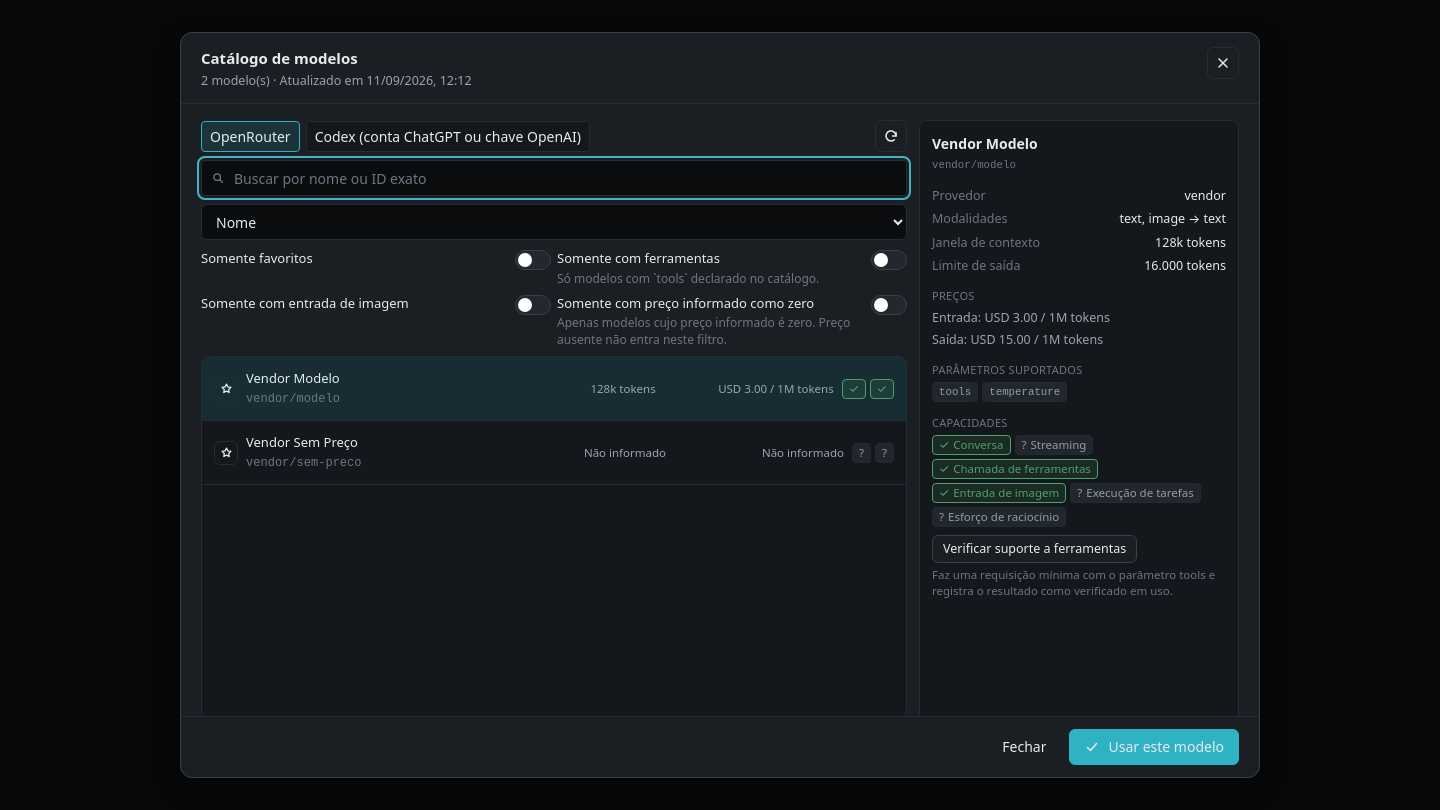
Scenario: CatalogDialog › filtro de preço zero NÃO inclui modelos sem preço informado
Click the switch named "preço informado como zero" next to "Somente com preço informado como zero" at (889, 305), box [871,295,907,315]
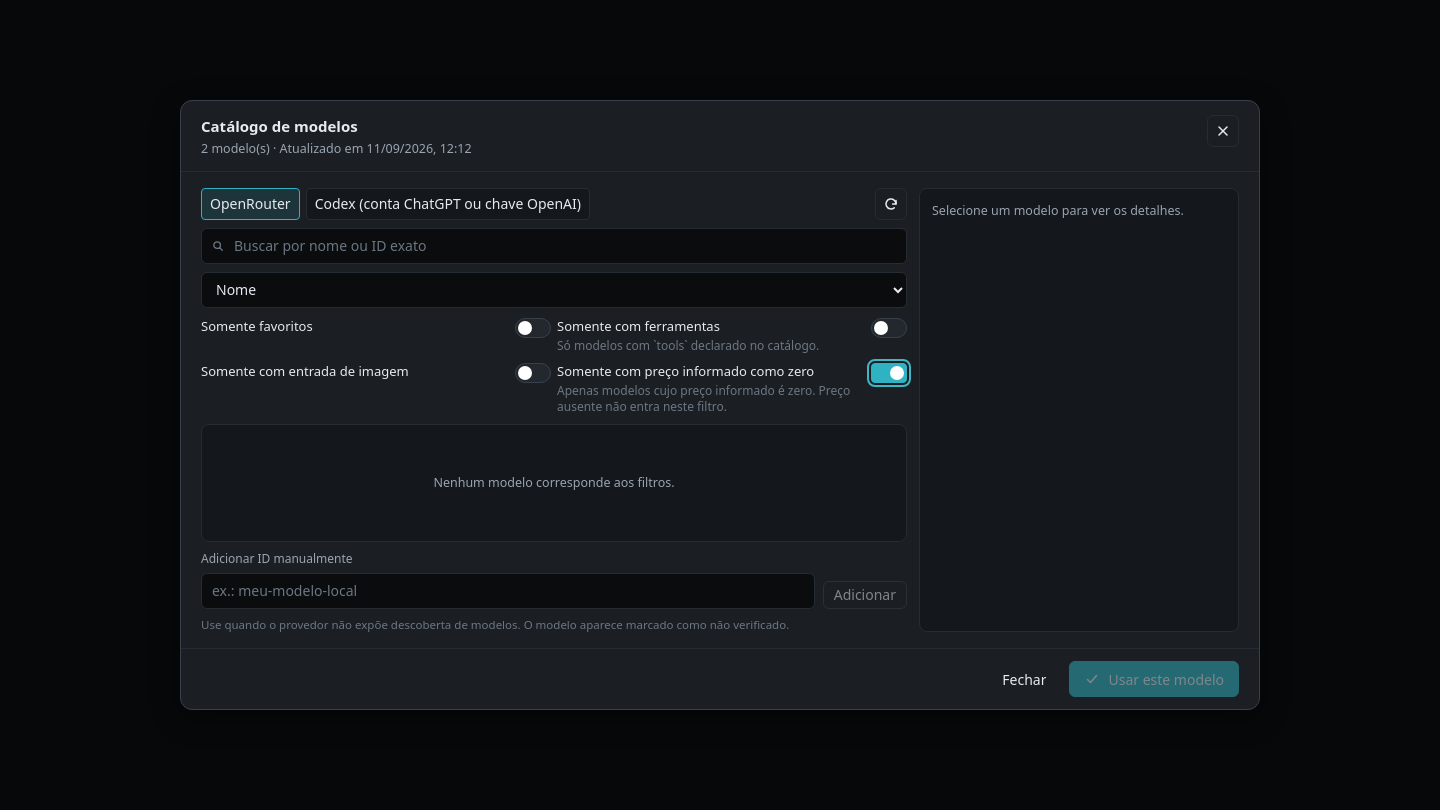
Now the text "Nenhum modelo corresponde aos filtros." is shown, box [433,474,675,491]
